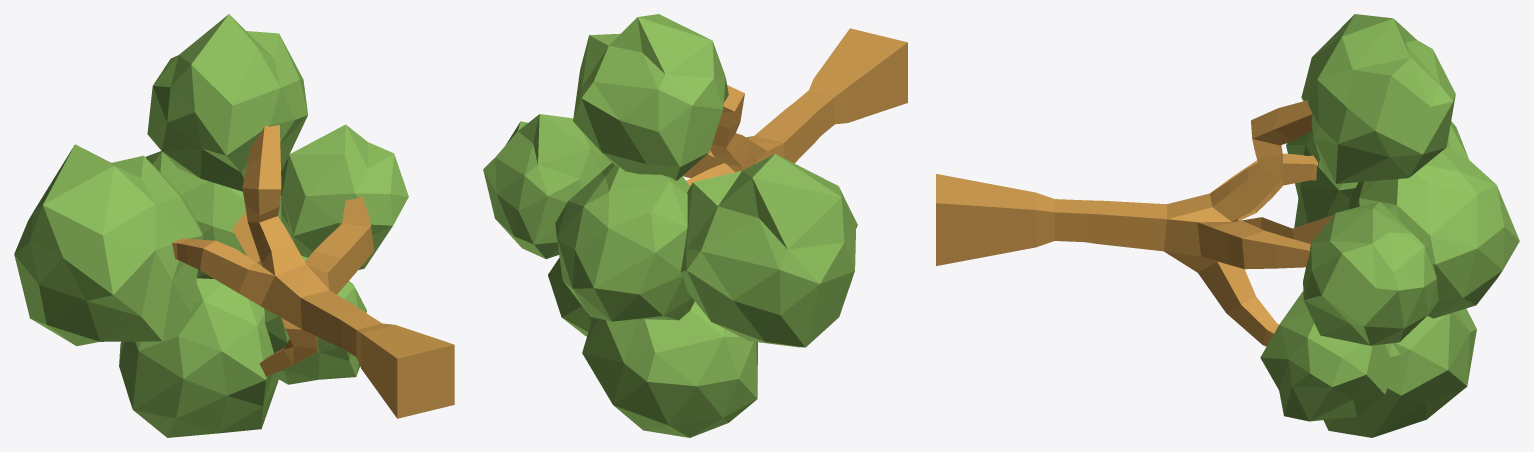
Rendered from Terrain_tree4.fbx.
3 views of the same model, side by side, from view 1: azimuth 30°, elevation 25°; view 2: azimuth 150°, elevation 25°; view 3: azimuth 270°, elevation 25° (orthographic). The views are drawn at different scales.
Visible parts, largest first — view 1: Plane; view 2: Plane; view 3: Plane.
Part boxes in pixels (x1,y1,x2,y2): Plane: [14, 14, 454, 437]; Plane: [483, 14, 907, 437]; Plane: [936, 14, 1519, 437].
Bounding box in the file's own units: 44577 × 47594 × 60206.
